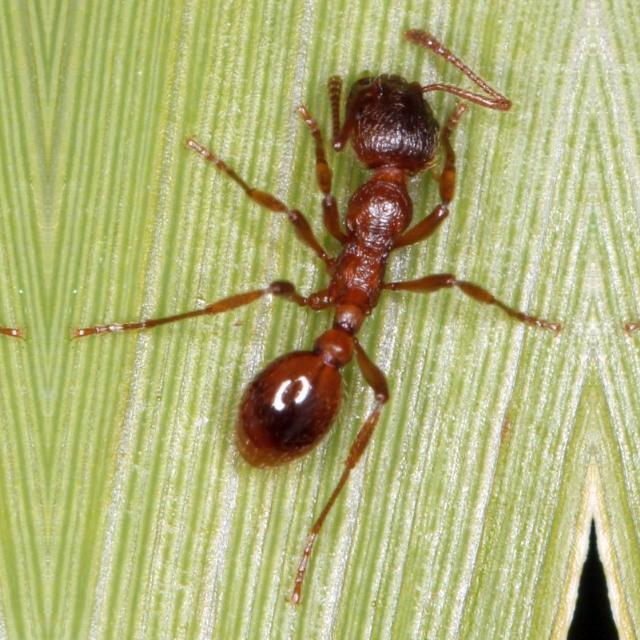Myrmica: (140, 9, 538, 478)
